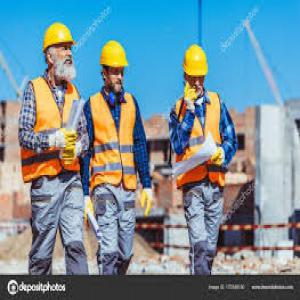yellow: (41, 21, 78, 81), (98, 40, 130, 96), (184, 45, 210, 99)
